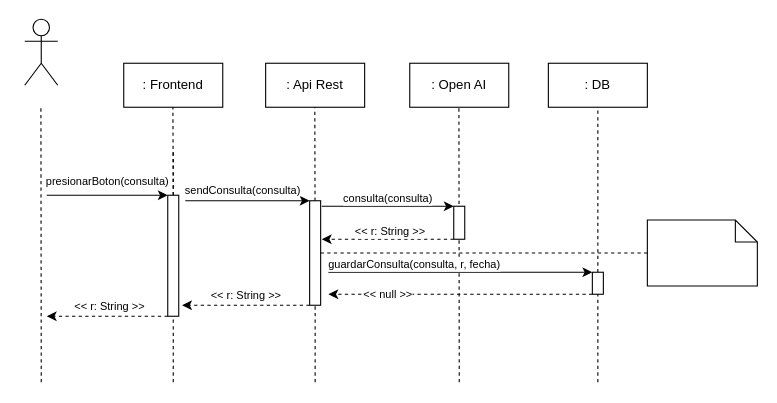
This 777x403 diagram has some shape labels left out. The centre of each missing label's shape, as x and y in pixels:
"fecha = now()" belongs at (x=701, y=252).
"Usuario" belongs at (x=41, y=51).
